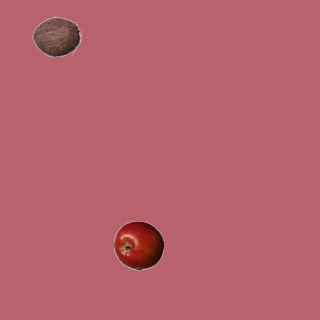Apple Braeburn: (113, 220, 163, 270)
Cocos: (31, 11, 81, 61)
